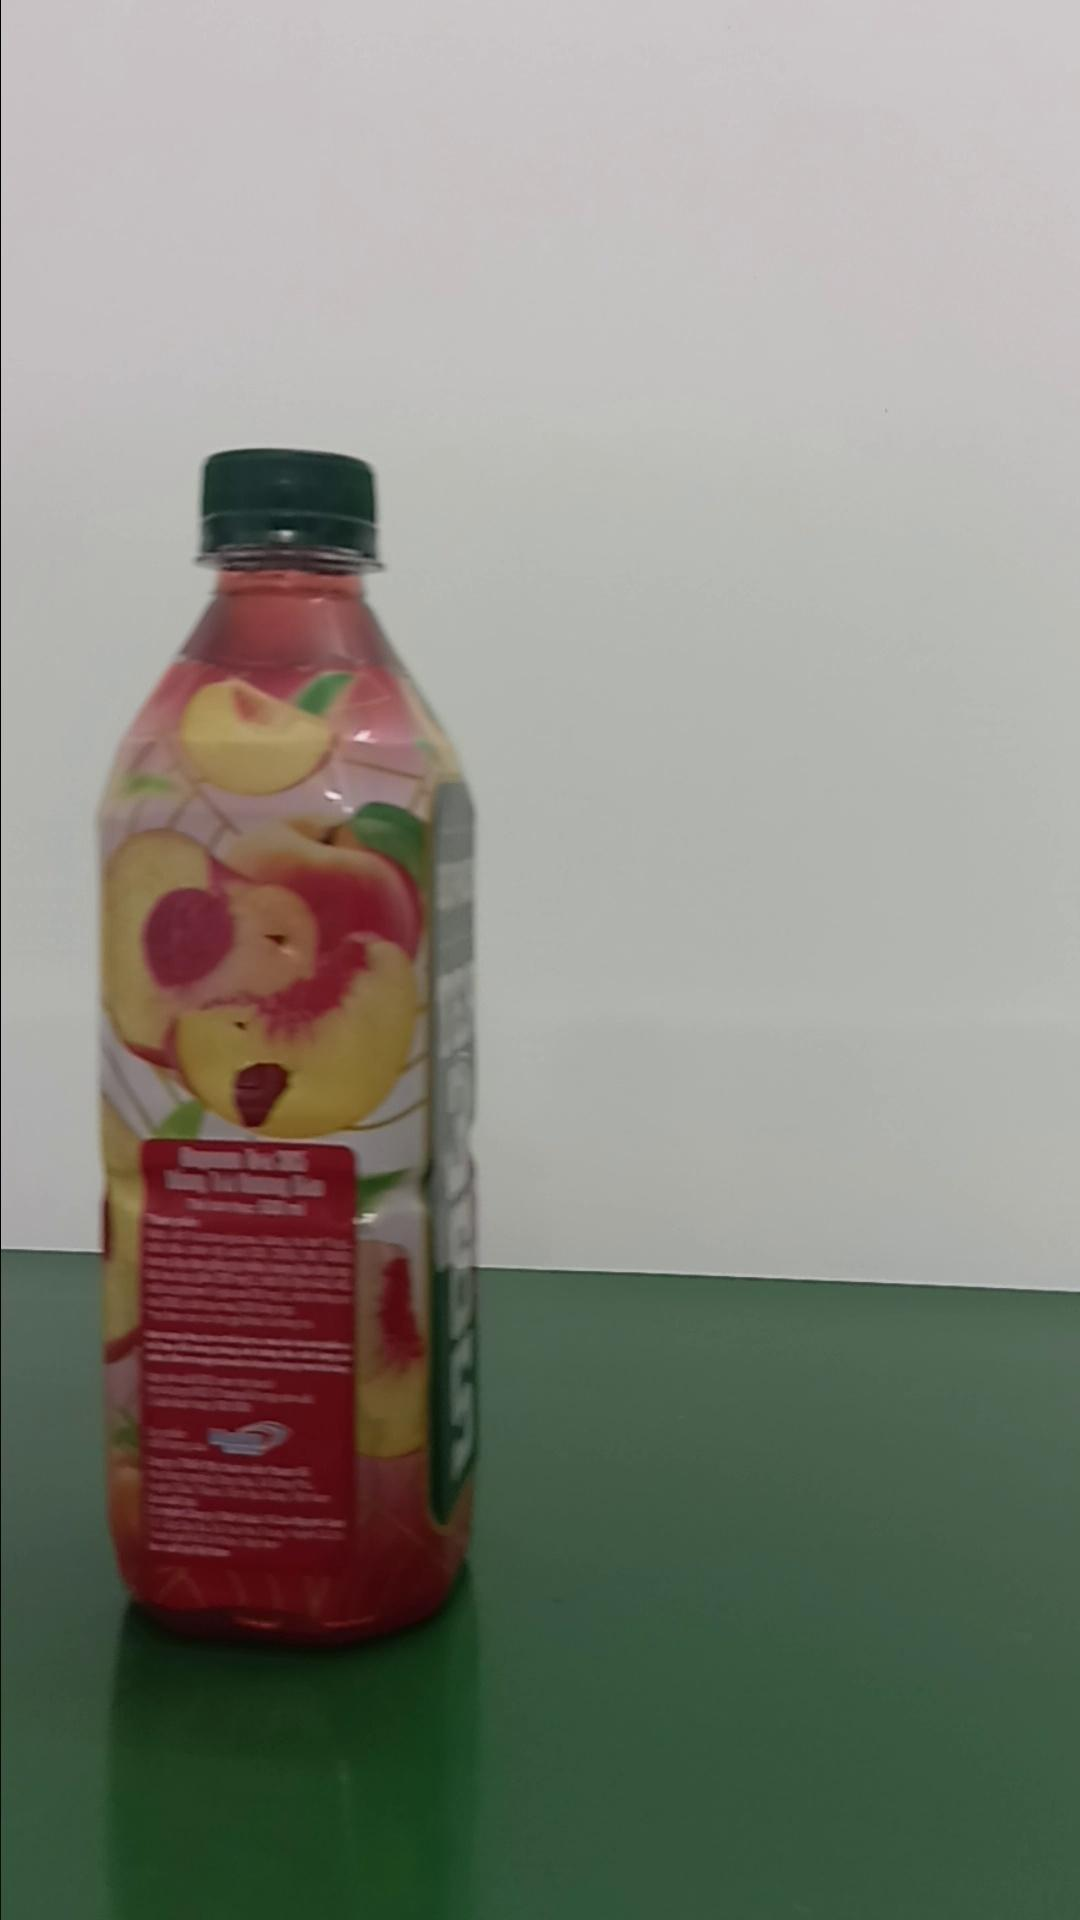loi rach va lap chai: (86, 440, 477, 1654)
